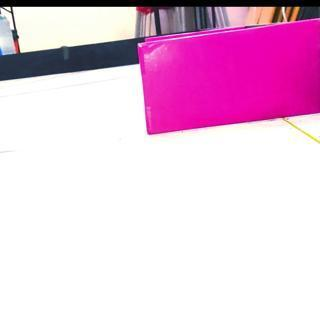xparking: (140, 31, 320, 121)
